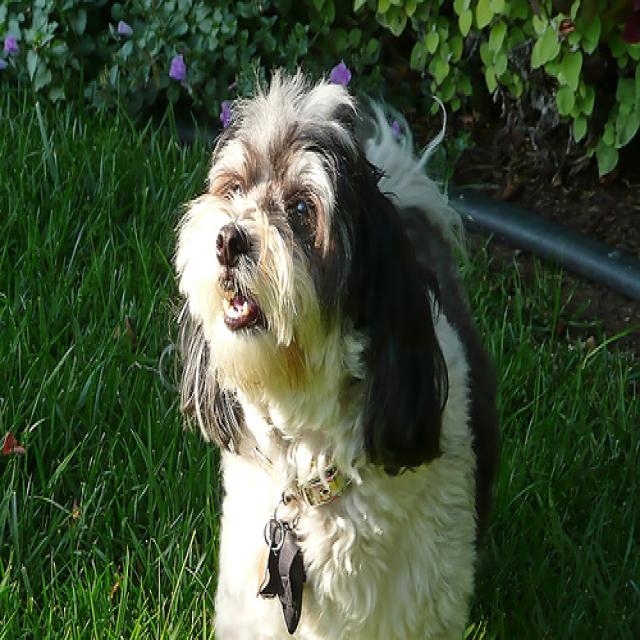dog-havanese: (173, 71, 502, 636)
